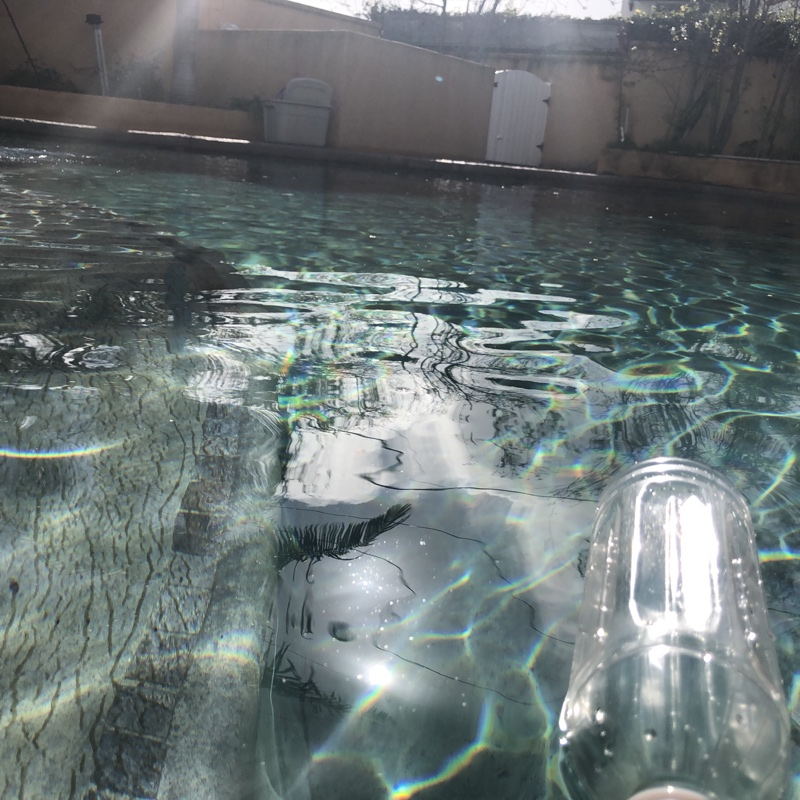Plastic Bottle: (549, 448, 795, 800)
